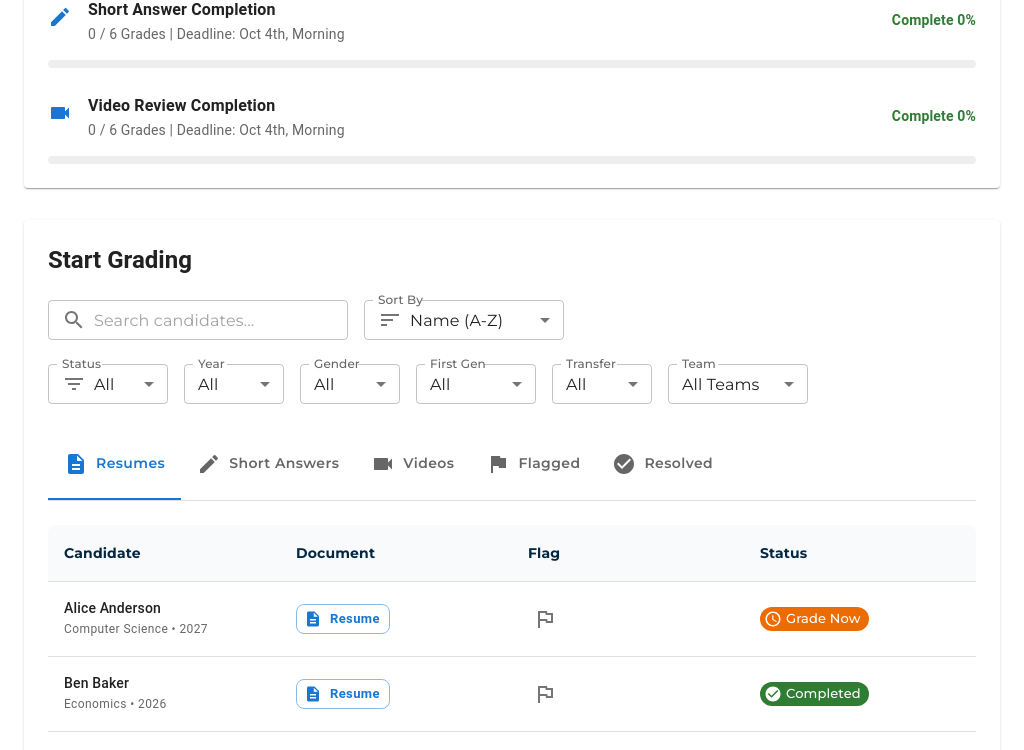
Test: AdminDocumentGrading team filter › loads applications and renders the Team filter options
(page scrolled)
Step 1. Press the mouse on the dropdown "All Teams" → (721, 384), box [682,375,760,394]
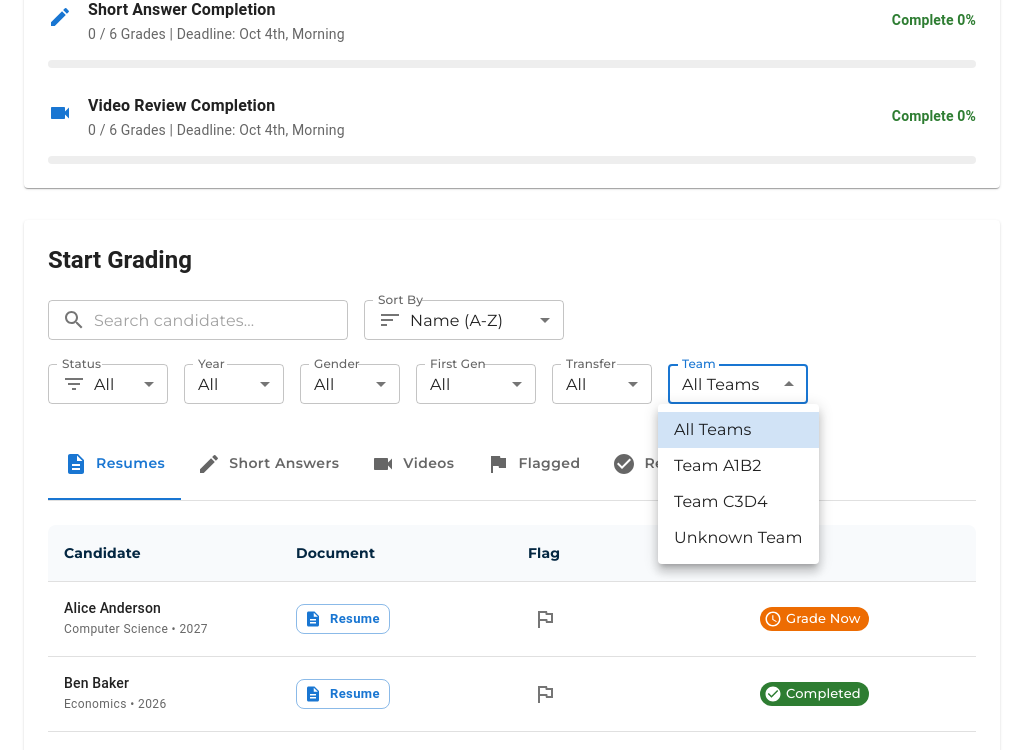
Check: the option "All Teams" is shown, box [658,412,819,448]
Check: the option "Team A1B2" is shown, box [674,456,761,475]
Check: the option "Team C3D4" is shown, box [674,492,768,511]
